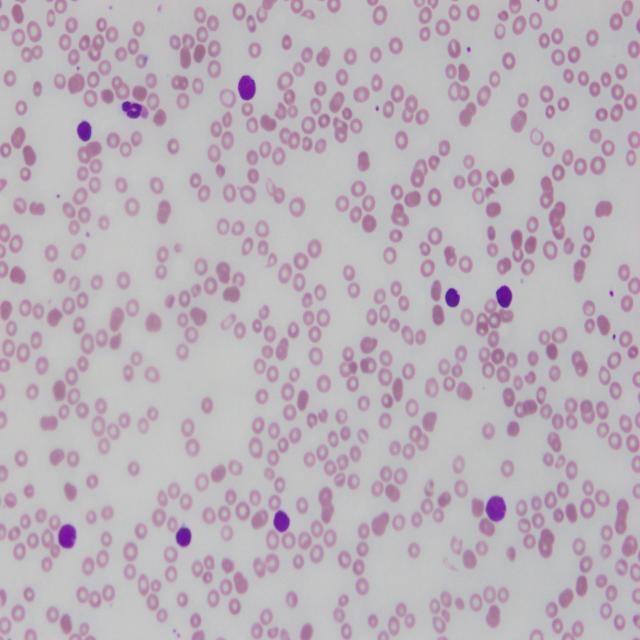cell: (485, 495, 506, 522), (238, 75, 256, 100), (59, 525, 76, 548), (496, 285, 512, 308), (274, 510, 290, 532), (176, 527, 191, 547), (78, 120, 91, 142), (445, 288, 460, 307)
